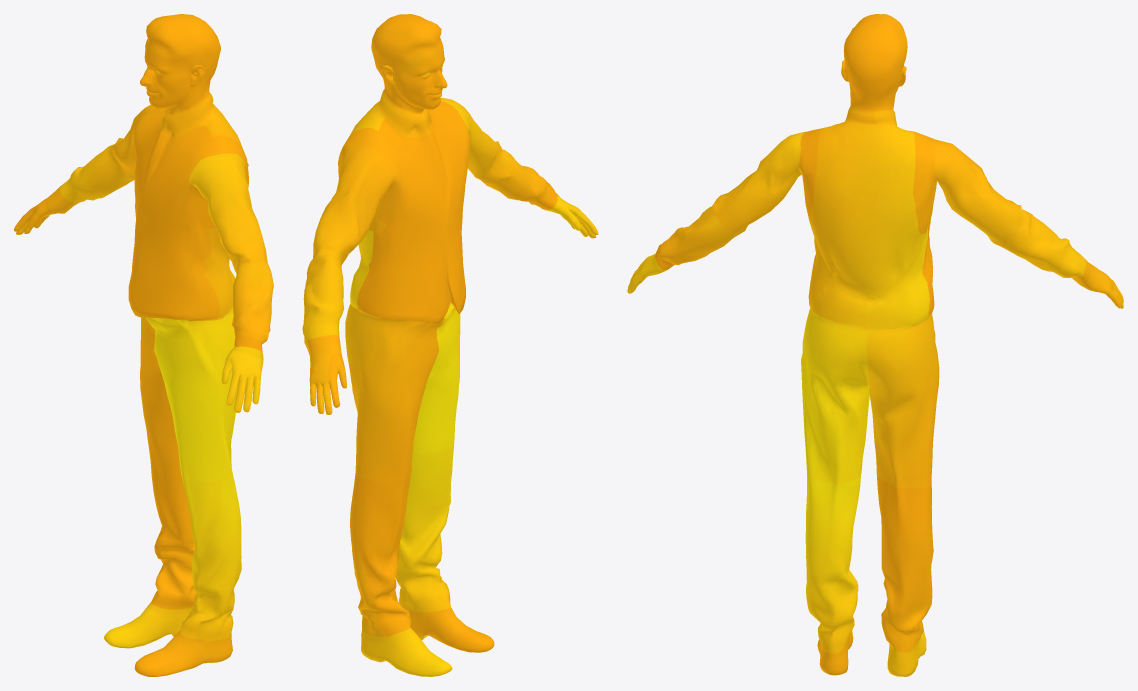
Rendered from manyellow.gltf.
3 views of the same model, side by side, from view 1: azimuth 30°, elevation 25°; view 2: azimuth 150°, elevation 25°; view 3: azimuth 270°, elevation 25° (orthographic).
Visible parts, largest first — view 1: rp_eric_rigged_001_geo; view 2: rp_eric_rigged_001_geo; view 3: rp_eric_rigged_001_geo.
Boxes of the visible parts, x1,y1,x2,y2 form: rp_eric_rigged_001_geo: [14, 14, 273, 676]; rp_eric_rigged_001_geo: [302, 14, 598, 676]; rp_eric_rigged_001_geo: [627, 14, 1123, 676].
Size of the model in its own units: 38.43 by 186 by 131.
Materials: 1 (1 with a texture image).
